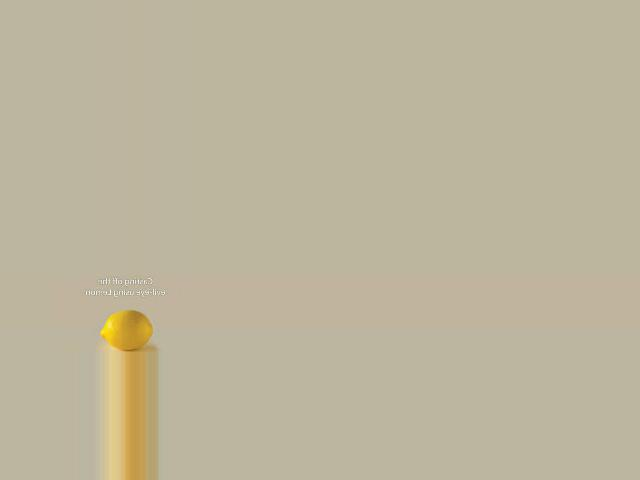lemon: (100, 307, 154, 348)
